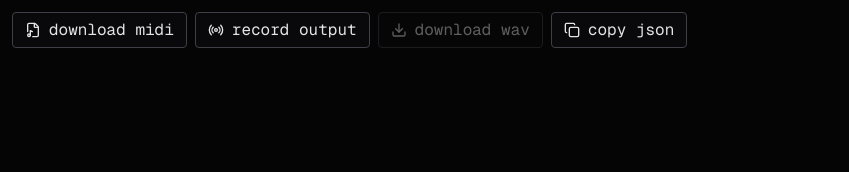
Test case: ToolExportPanel › downloads declared MIDI artifacts and reports evidence
Click the button "download midi" at [99, 30], box [12,12,187,48]
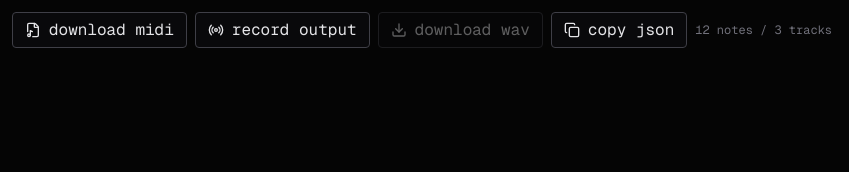
Expected: the button "record output" is shown, [195,12,370,48]
Expected: the text "12 notes / 3 tracks" is shown, [695,22,832,38]
